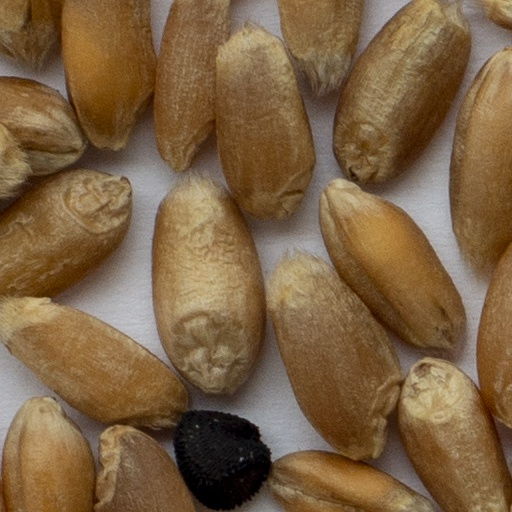Agrostemma-poly: (174, 408, 274, 511)
Wheat-grain-poly: (94, 423, 196, 511)
